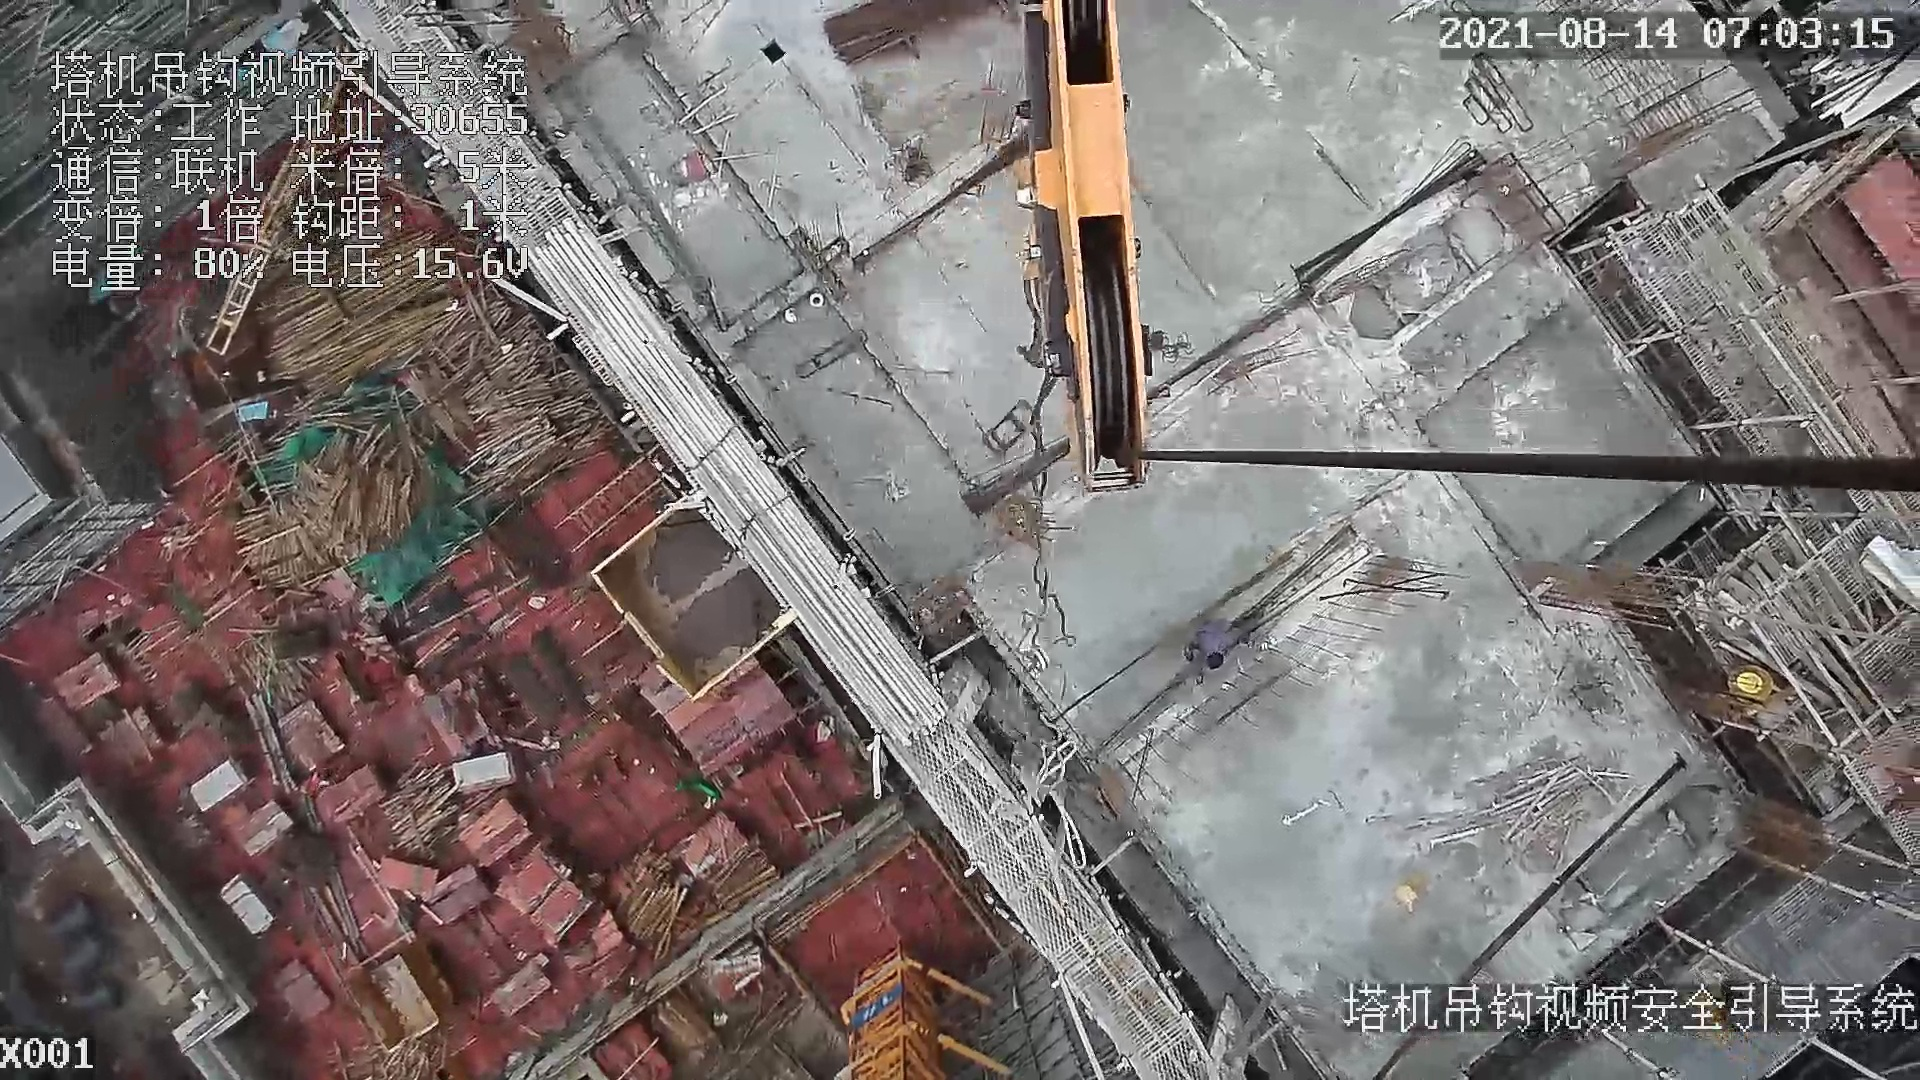hook: (999, 1, 1156, 492)
person: (1182, 613, 1250, 669)
slogan: (842, 980, 903, 1030)
